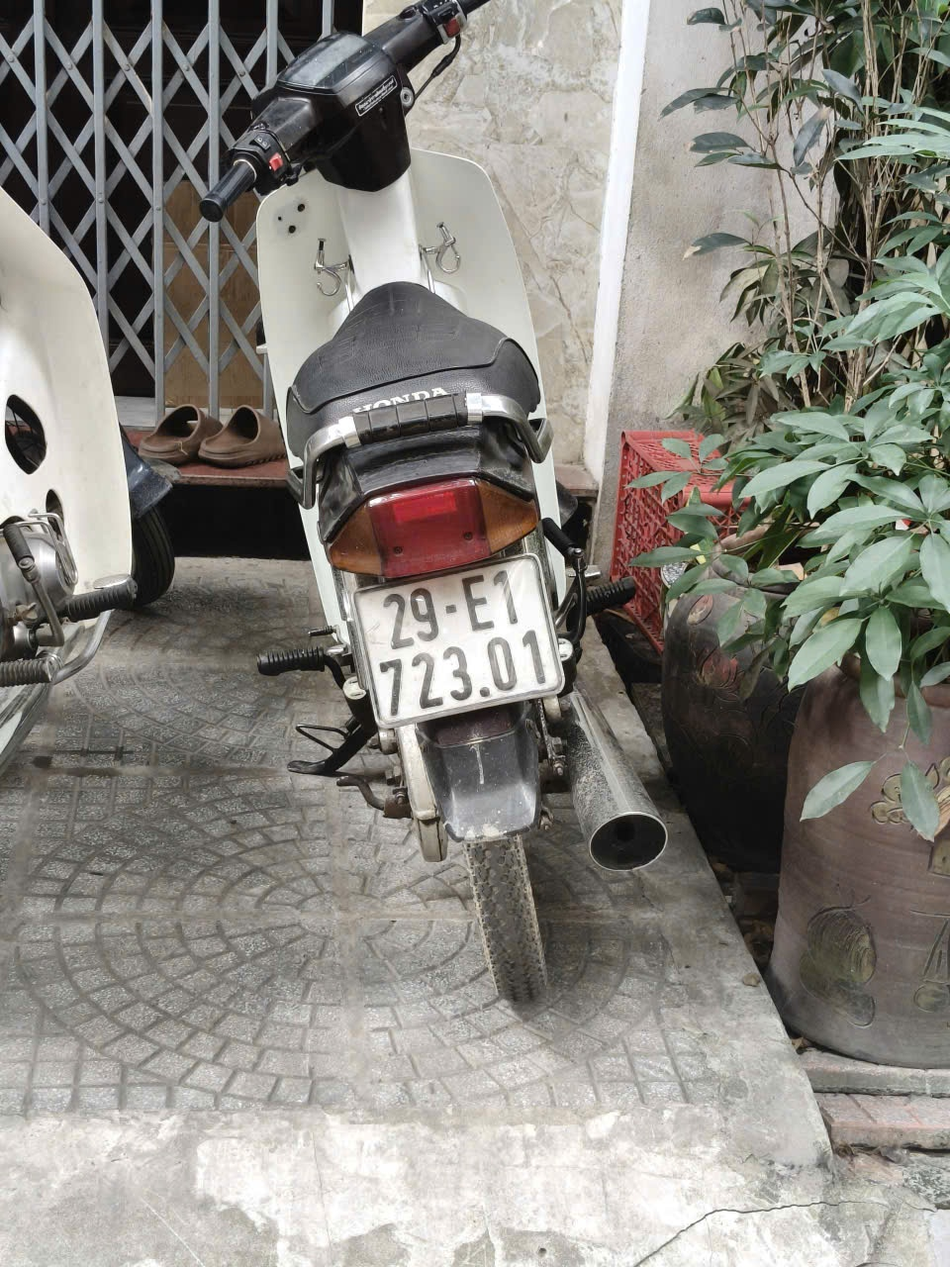plate: (780, 397, 906, 440)
